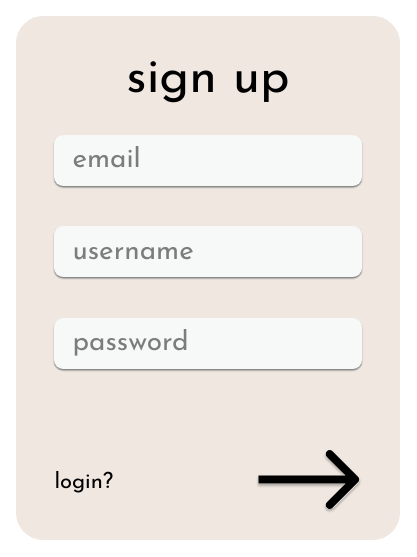
Register › shows error when password is missing
The width and height of the screenshot is (417, 557).
Type "user@example.com" into the field with placeholder "email" at coordinates (208, 160), box [54,135,362,186]
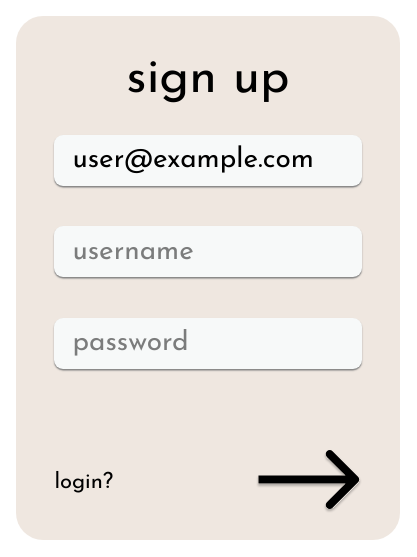
Type "alice" into the field with placeholder "username" at coordinates (208, 252), box [54,226,362,277]
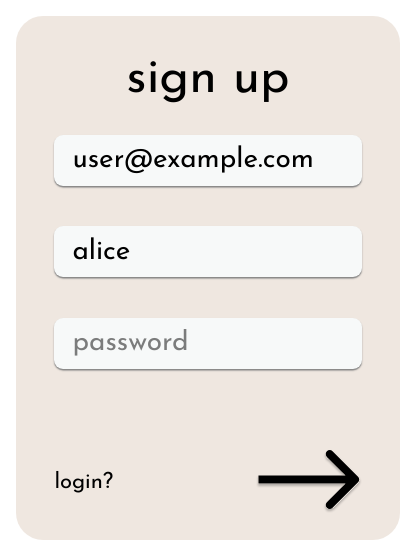
Click the button named "submit" at coordinates (309, 482), box [256,450,362,514]
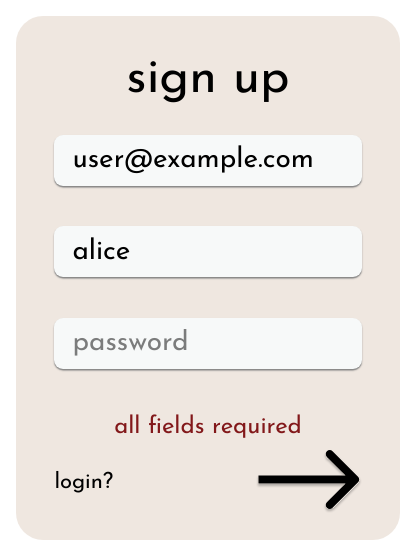
Check: the text "all fields required" is shown, box [114,409,302,441]
